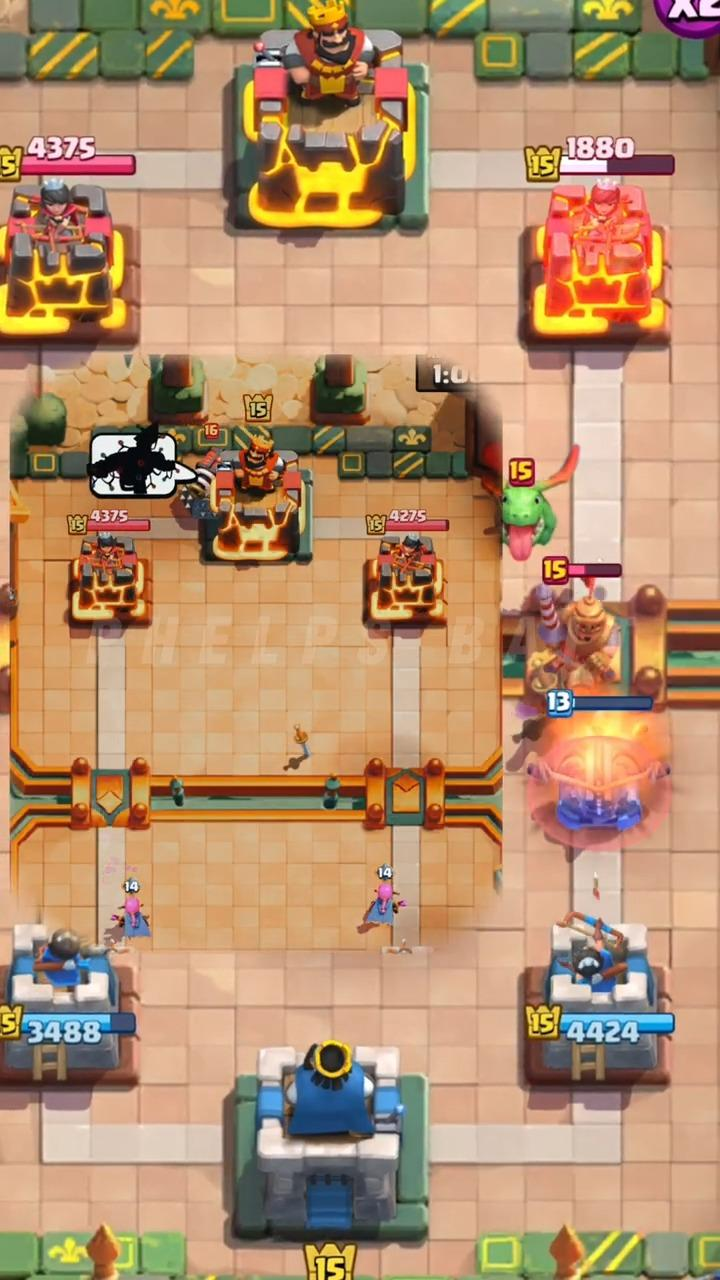archer: (357, 864, 406, 933), (112, 877, 149, 938)
baby dragon: (483, 446, 578, 560)
prince: (537, 576, 616, 688)
sparky: (180, 451, 216, 517)
x-bow: (529, 737, 668, 833)
